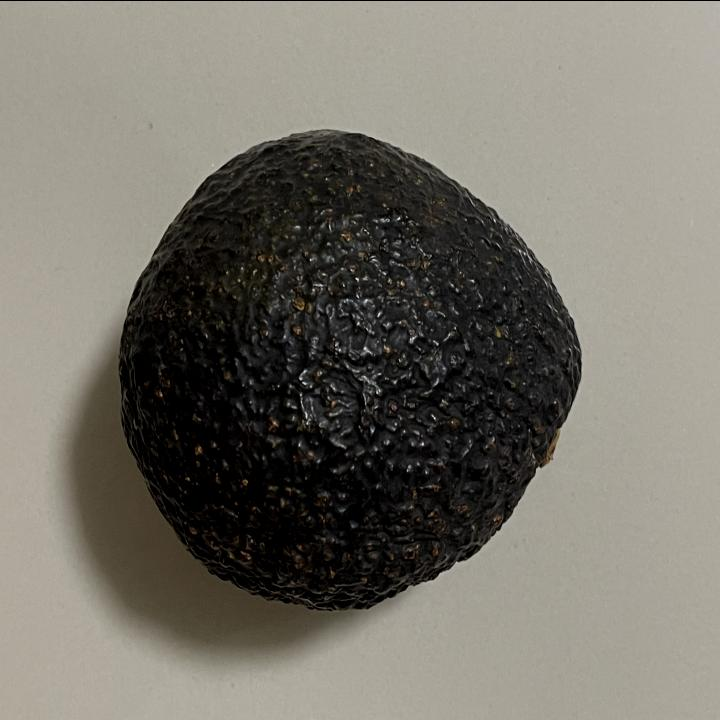Level2: (115, 121, 592, 620)
